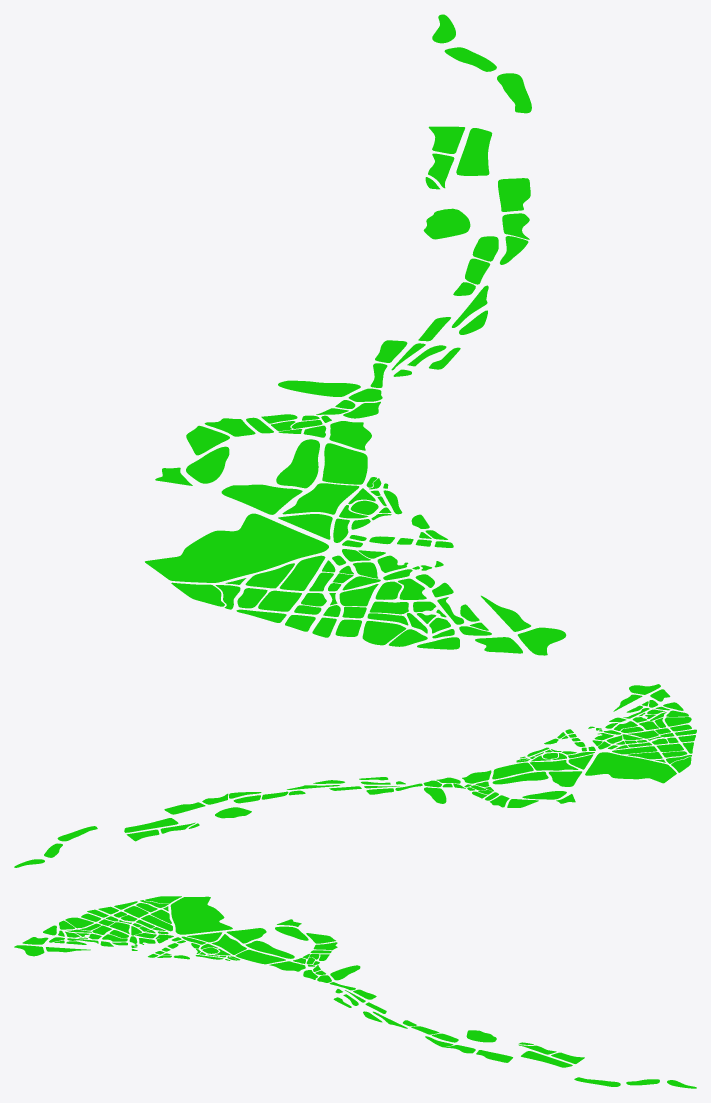
File: nogoon_baiguulamj.fbx
The picture shows the model from 3 angles, top to bottom: view 1: azimuth 30°, elevation 25°; view 2: azimuth 150°, elevation 25°; view 3: azimuth 270°, elevation 25°; orthographic projection. The views are drawn at different scales.
Visible parts, largest first — view 1: zones.002; view 2: zones.002; view 3: zones.002.
Boxes of the visible parts, box(x1,y1,x2,y2) form: zones.002: box(145, 14, 566, 655); zones.002: box(14, 684, 696, 867); zones.002: box(14, 896, 696, 1088).
Size of the model in its own units: 2473 by 1648 by 0.
